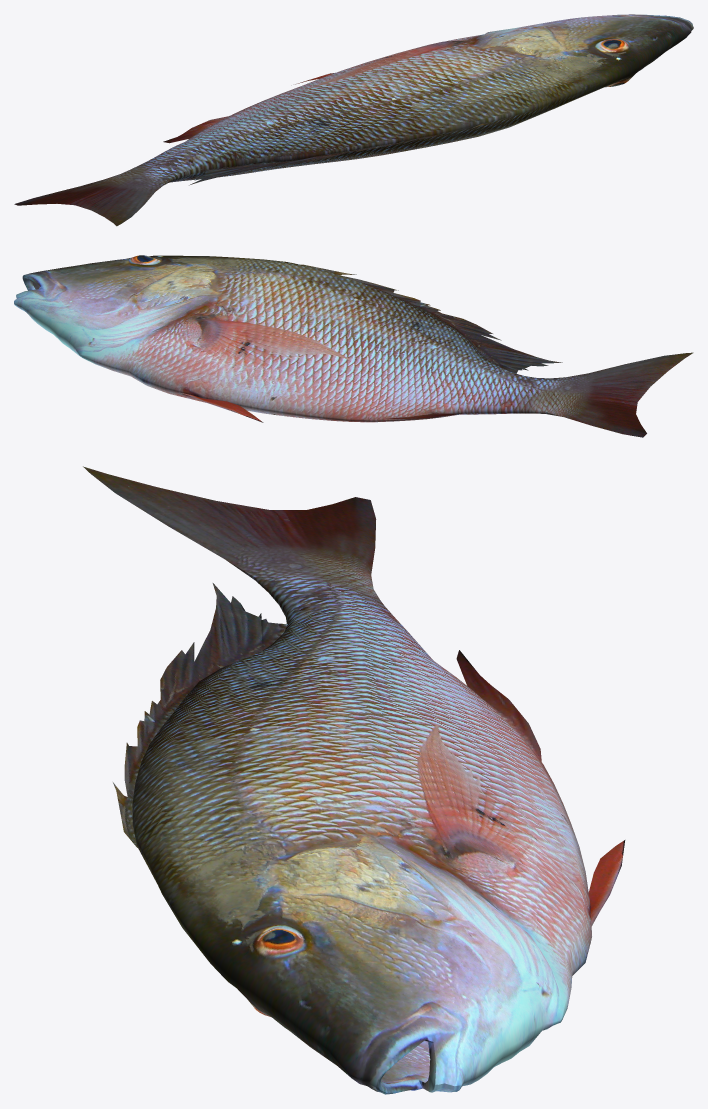
The model's file is pez.glb.
The picture shows the model from 3 angles, top to bottom: view 1: azimuth 30°, elevation 25°; view 2: azimuth 150°, elevation 25°; view 3: azimuth 270°, elevation 25°; orthographic projection. The views are drawn at different scales.
Parts seen in each view (by area): view 1: Line01; view 2: Line01; view 3: Line01.
Boxes of the visible parts, box(x1,y1,x2,y2) form: Line01: box(14, 14, 693, 226); Line01: box(14, 255, 693, 437); Line01: box(83, 466, 625, 1094).
Bounding box in the file's own units: 18.87 × 2.17 × 7.16.
Materials: 1 (1 with a texture image).
